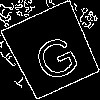G: (26, 25, 83, 84)
